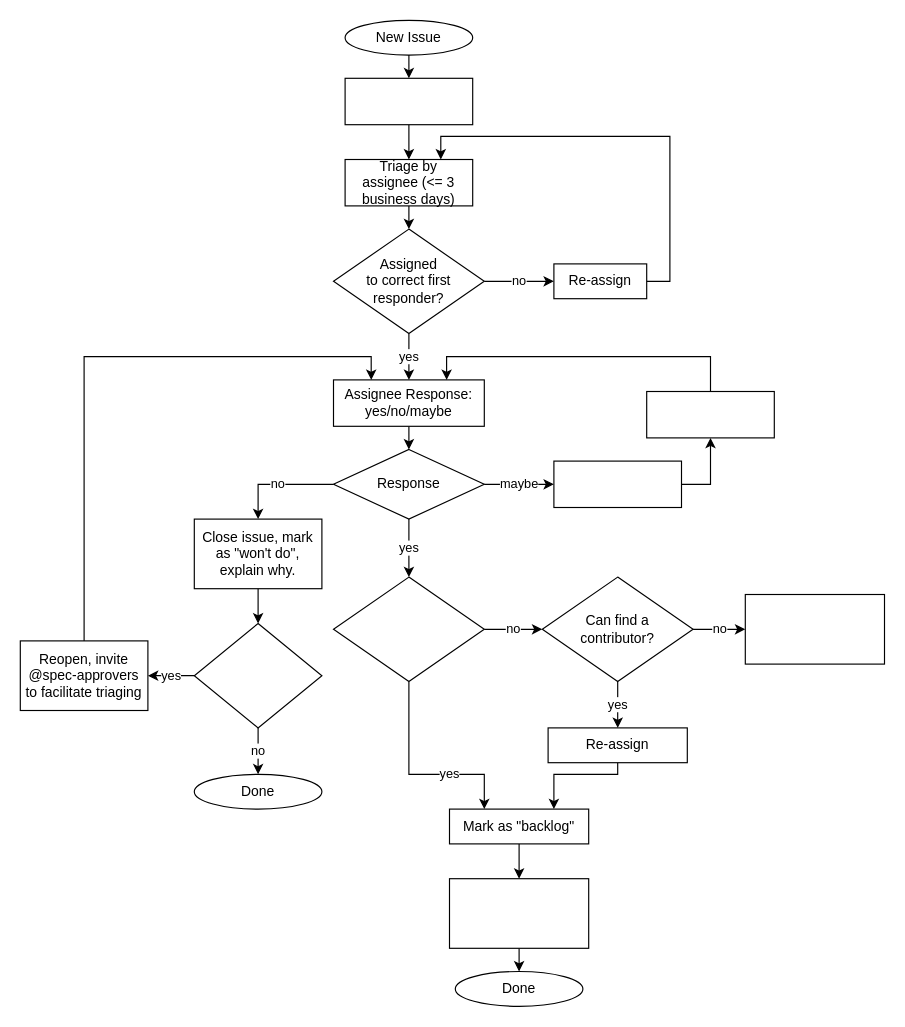
The diagram is 905 pixels wide and 1027 high, and some of its shapes have lost their labels. Here are the shapes that lost their labels. From the top down, the centre of each, then its label:
(408,101): Auto-assign to a spec approver
(710,414): Wait for author to clarify
(617,483): Ask for clarifications
(408,629): Assigned to correct contributor to work on?
(814,628): Mark as "help wanted". Remove assignee.
(257,675): Author appeals?
(518,913): (Final) Assignee works on resolution, submit a PR, etc.
